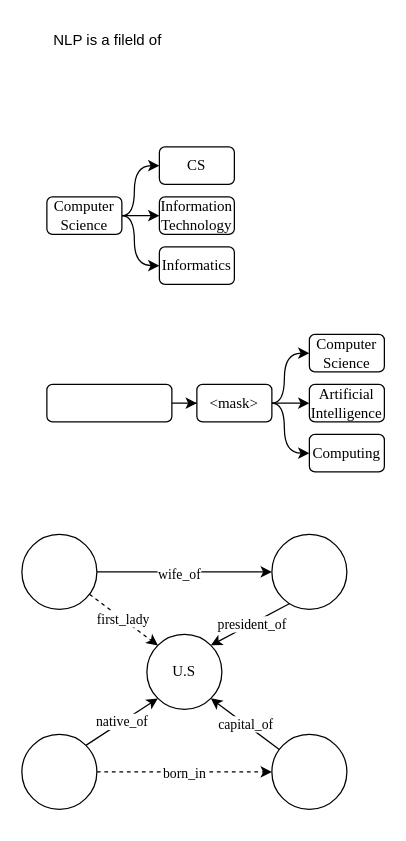
Some shapes in this 406 by 841 pixel diagram are drawn without their labels. Each missing label, with the box of its shape:
Barack Obama: (271, 533, 347, 609)
Michelle Obama: (21, 533, 97, 609)
NLP is a field of: (46, 383, 172, 422)
Samuel L Jackson: (21, 733, 97, 809)
Washington D.C: (271, 733, 347, 809)
